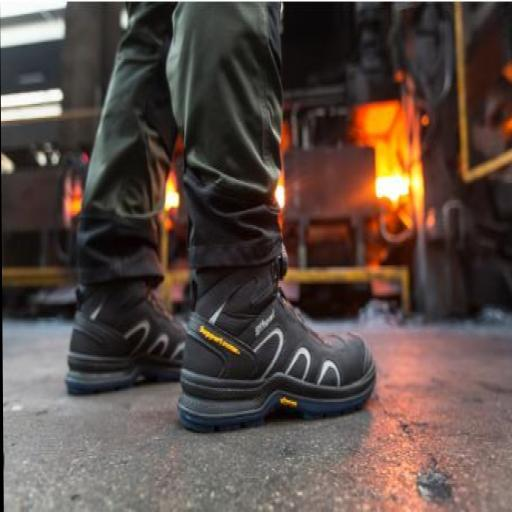safety_boots: (174, 306, 373, 437), (63, 300, 170, 410)
